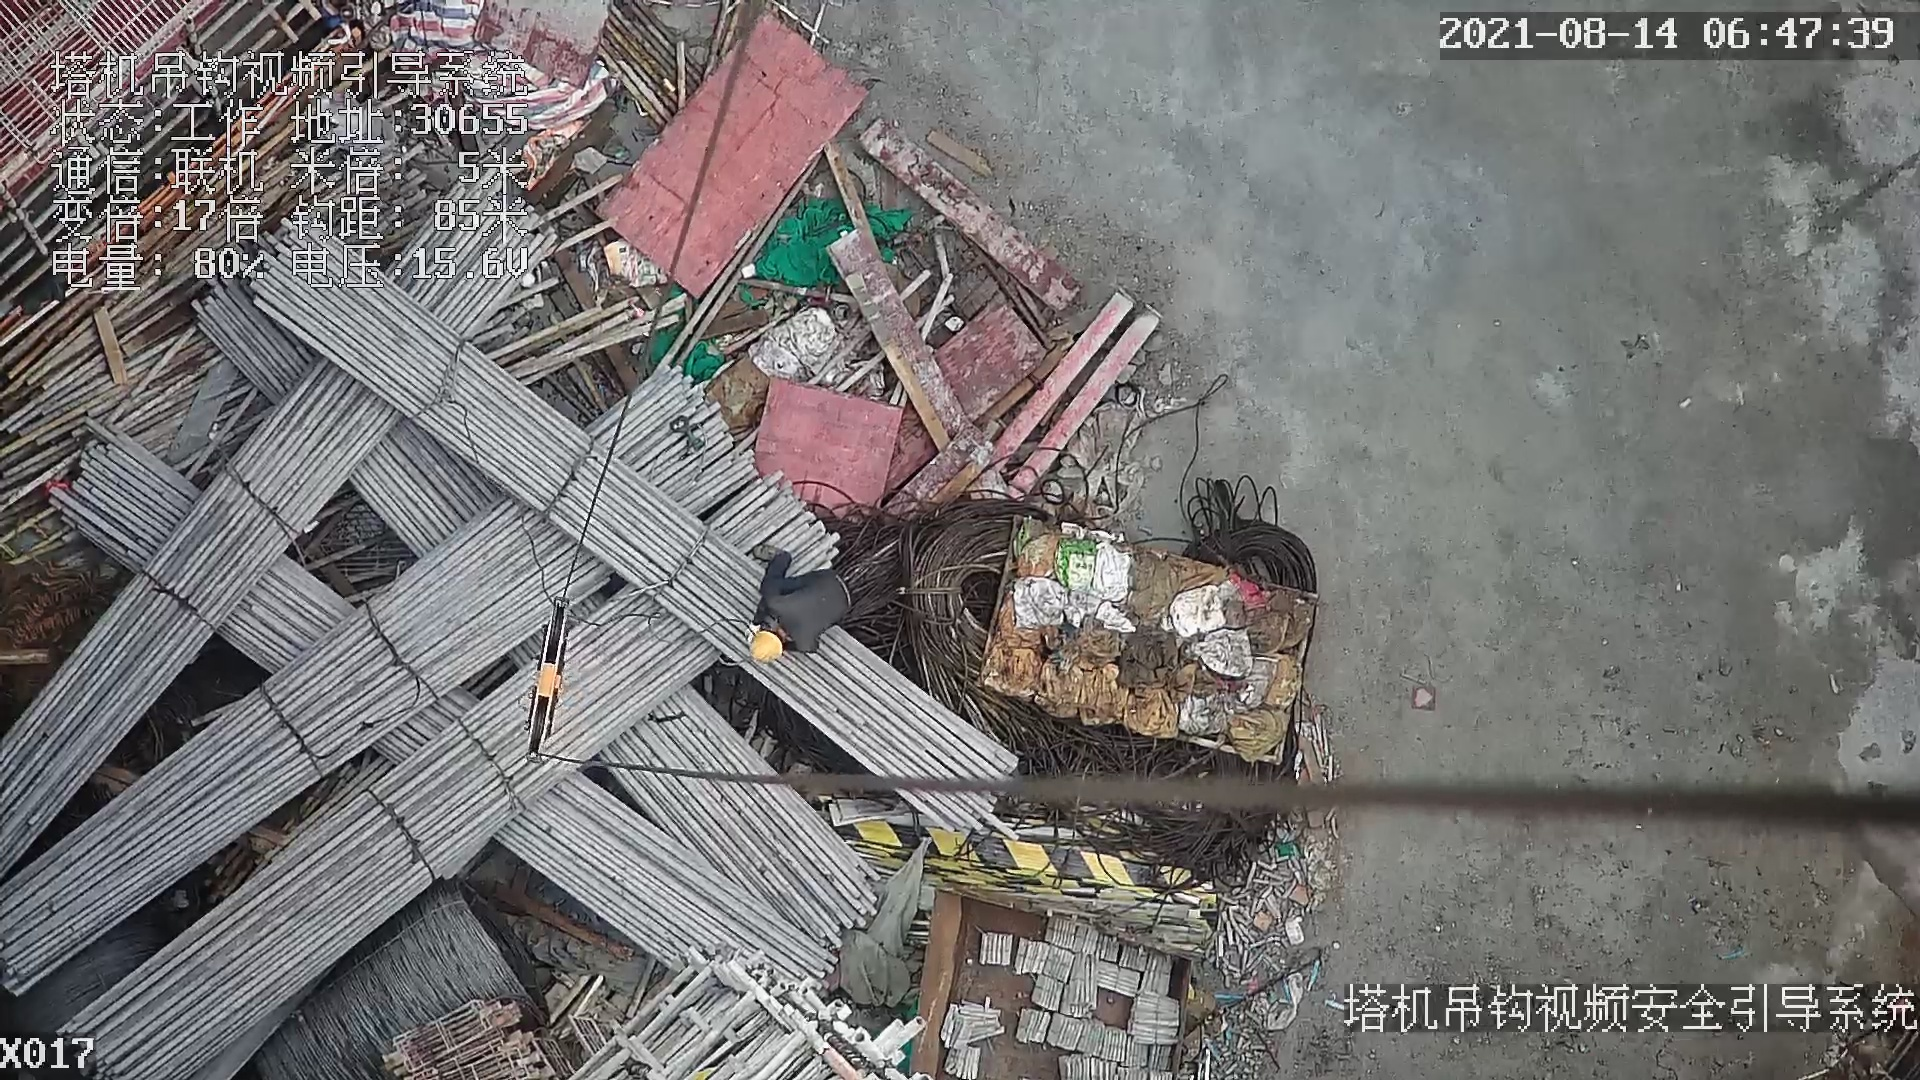board: (588, 6, 863, 308)
helmet: (743, 630, 786, 668)
hook: (523, 586, 588, 767)
person: (736, 536, 850, 674)
